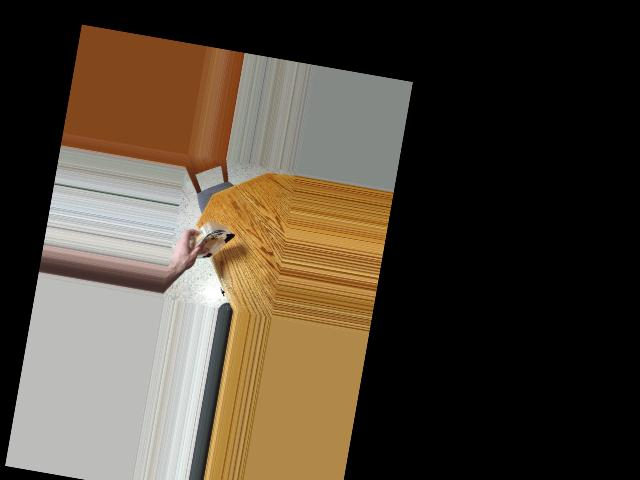cheese: (187, 212, 237, 275)
